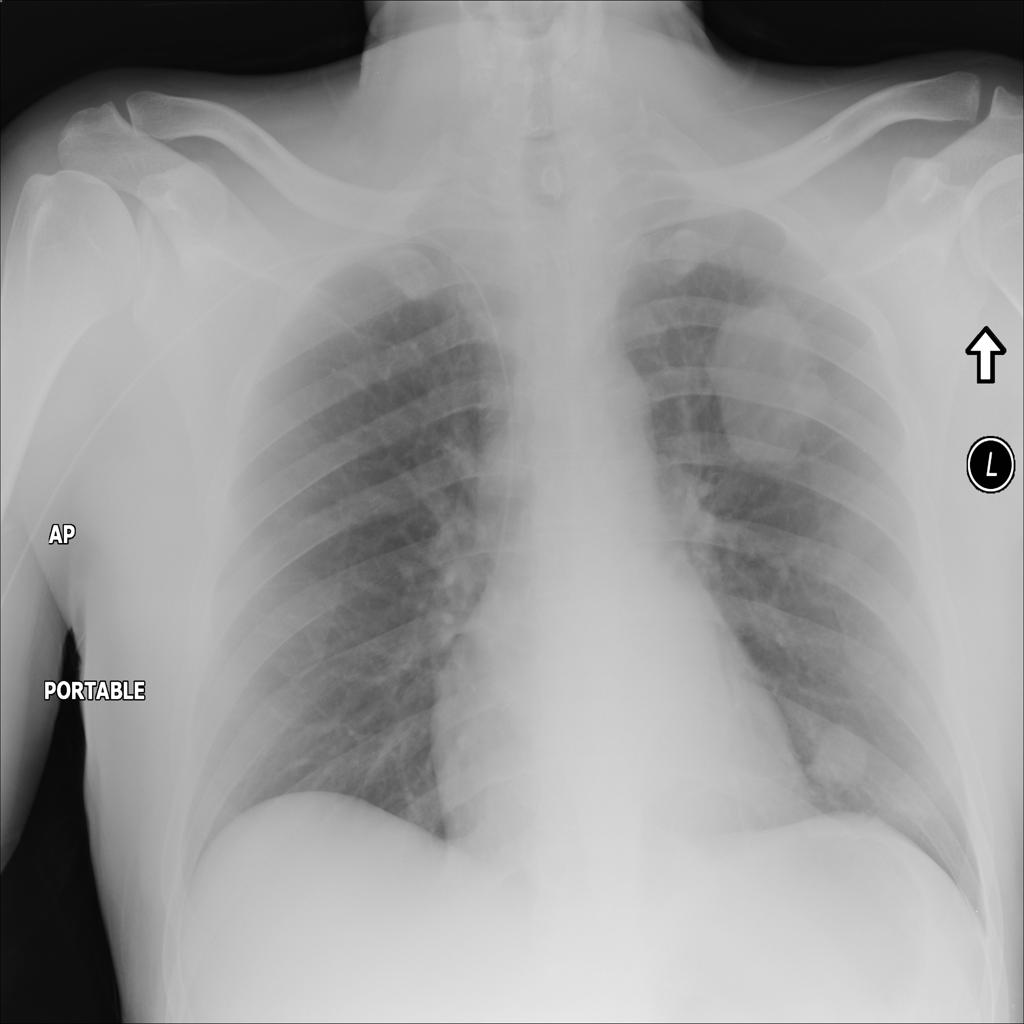nodule: (696, 287, 846, 487), (788, 702, 890, 805)
